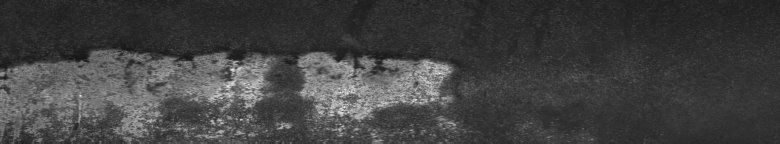kb: (4, 44, 533, 136)
